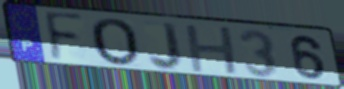3: (238, 27, 282, 81)
6: (288, 34, 327, 81)
F: (43, 10, 87, 65)
H: (183, 24, 242, 76)
J: (147, 20, 184, 72)
O: (87, 17, 141, 69)
